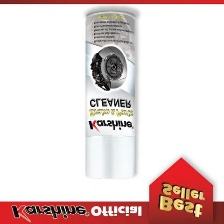aerosol_cans: (82, 7, 140, 182)
